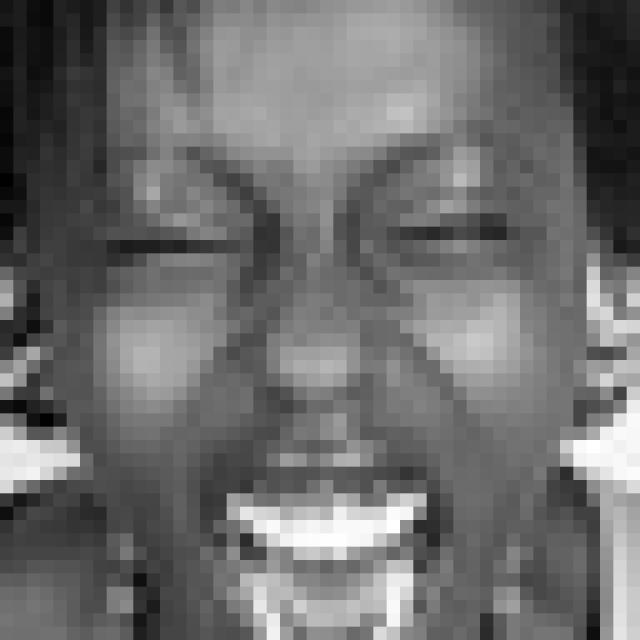angry: (81, 116, 545, 640)
